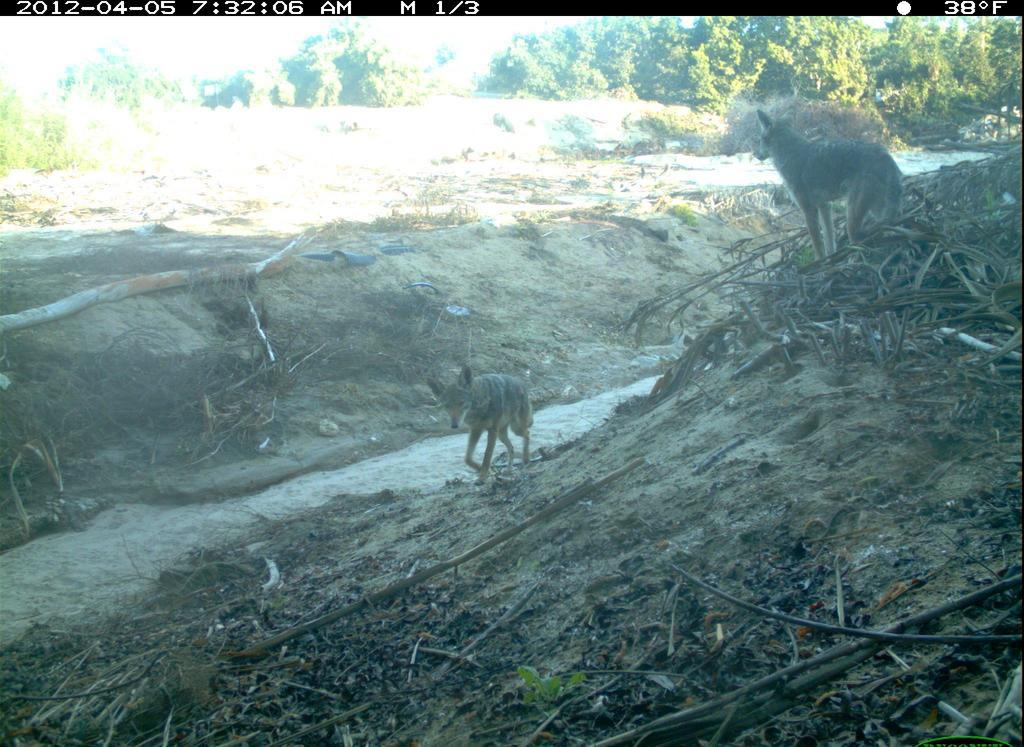coyote: (752, 108, 911, 260), (424, 342, 562, 484)
